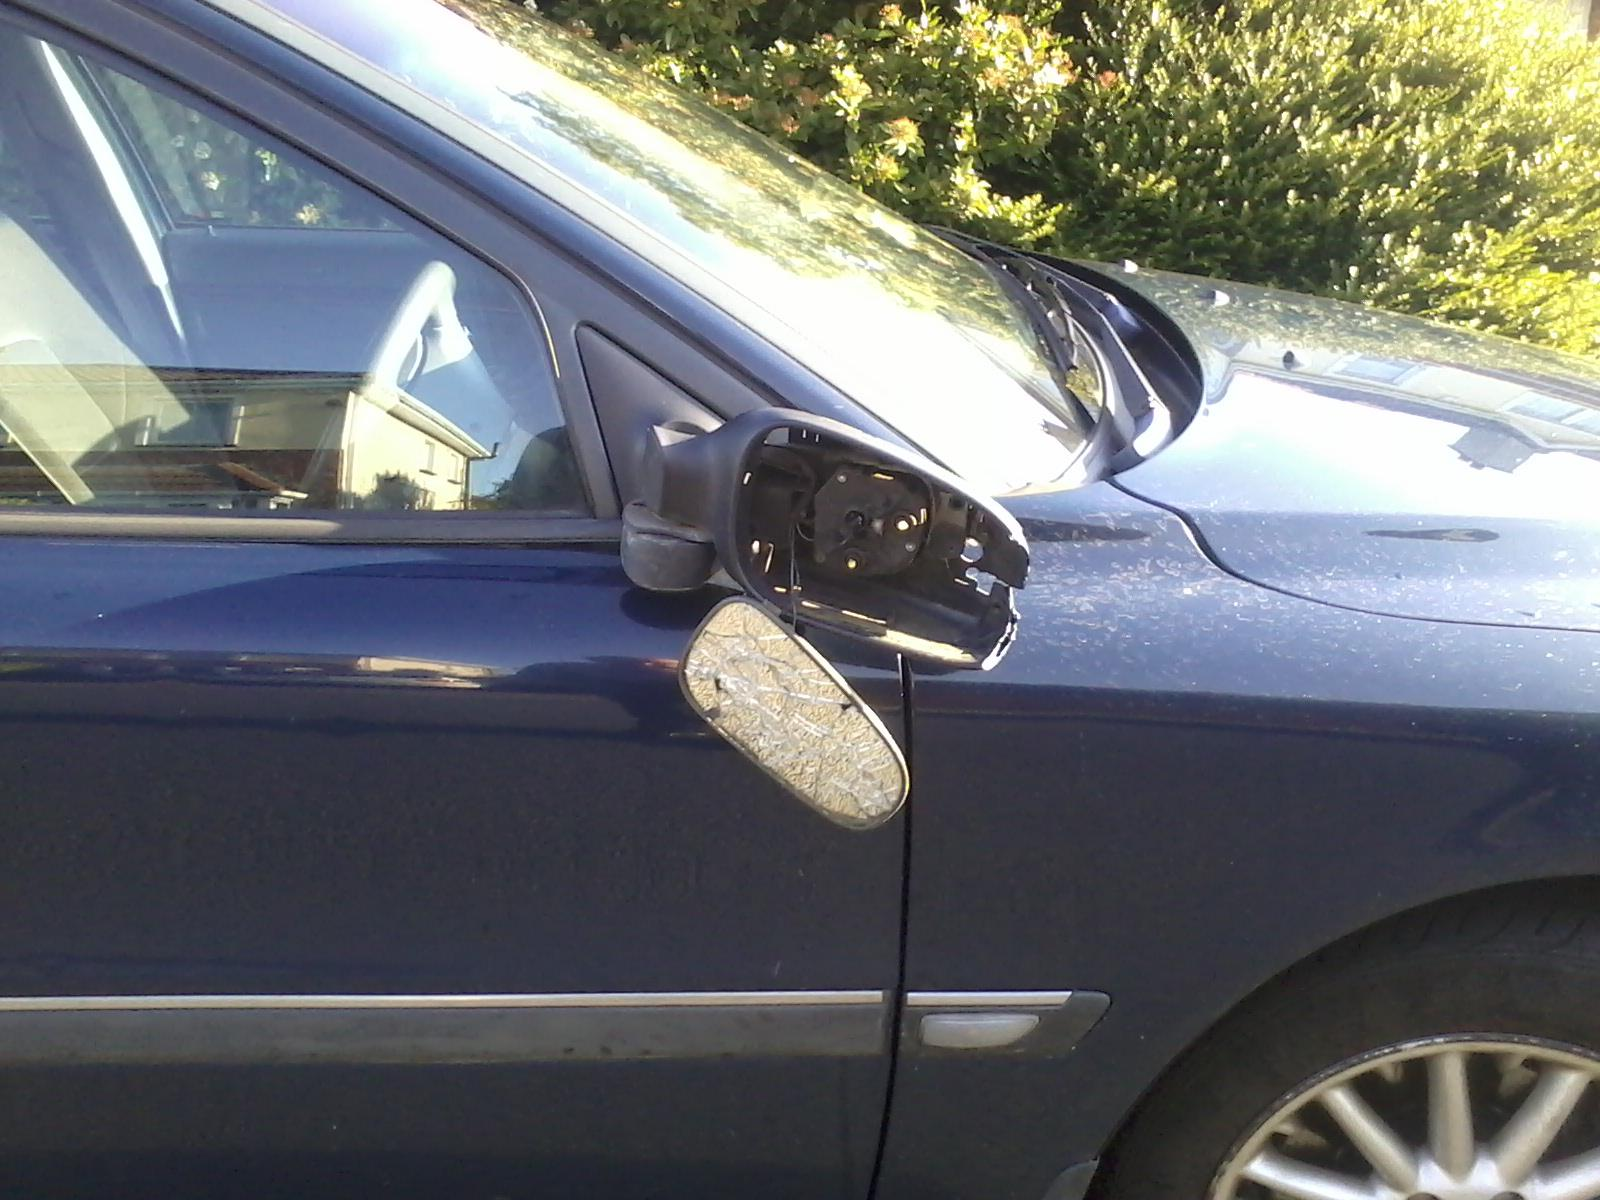Sidemirror-Damage: (658, 430, 1049, 793)
